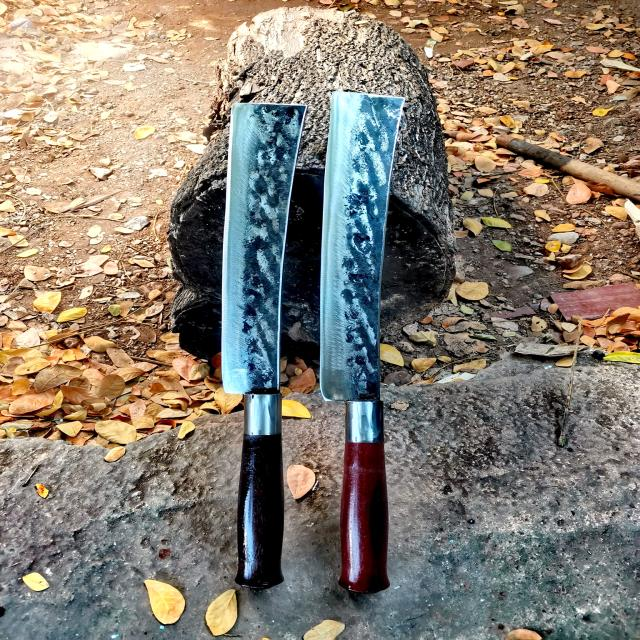eto: (310, 86, 415, 607), (217, 93, 315, 597)
